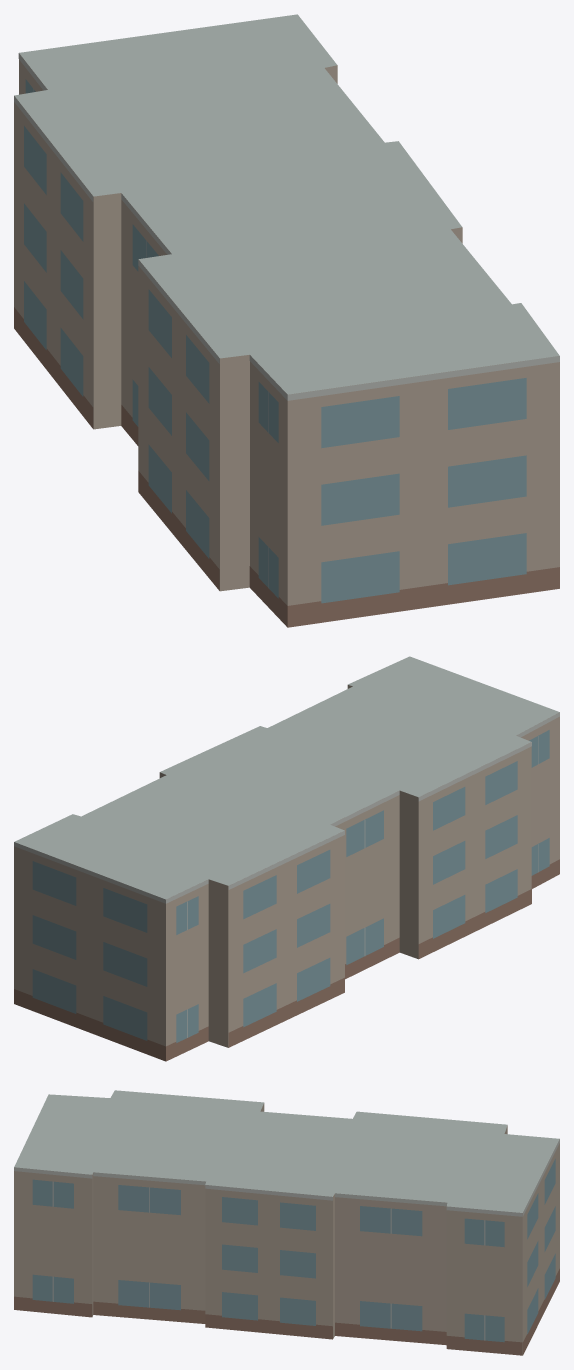
File: survey-upis-32769892.glb
The picture shows the model from 3 angles, top to bottom: view 1: azimuth 30°, elevation 25°; view 2: azimuth 150°, elevation 25°; view 3: azimuth 270°, elevation 25°; orthographic projection. The views are drawn at different scales.
Visible parts, largest first — view 1: survey-upis-32769892.tmp; view 2: survey-upis-32769892.tmp; view 3: survey-upis-32769892.tmp.
Boxes of the visible parts, x1,y1,x2,y2 form: survey-upis-32769892.tmp: (14, 14, 559, 627); survey-upis-32769892.tmp: (14, 656, 559, 1061); survey-upis-32769892.tmp: (14, 1090, 559, 1355).
Bounding box in the file's own units: 16.91 × 9.15 × 31.75.
